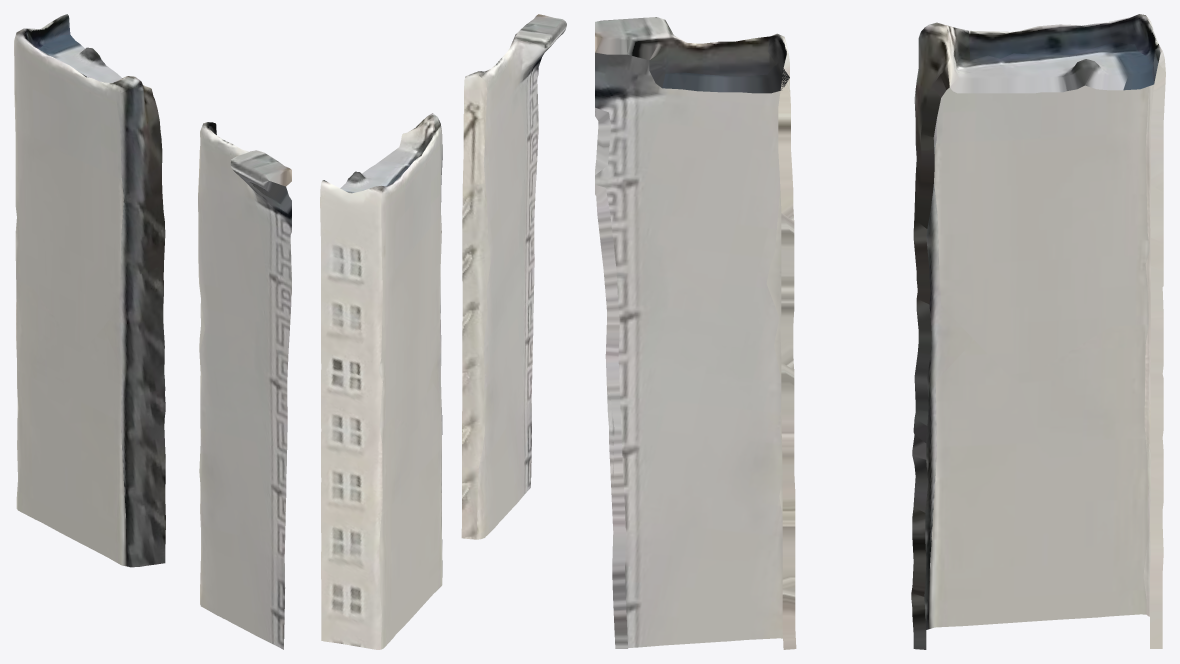
File: z20-167746-405246-h1-yup-uvflip-v3-world.glb
The picture shows the model from 3 angles, left to right: view 1: azimuth 30°, elevation 25°; view 2: azimuth 150°, elevation 25°; view 3: azimuth 270°, elevation 25°; orthographic projection. The views are drawn at different scales.
Bounding box in the file's own units: 3.2 × 25.44 × 21.44.
Materials: 1 (1 with a texture image).
